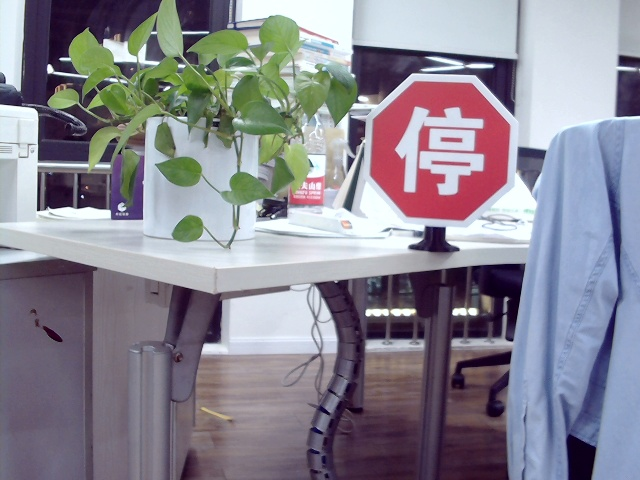stop: (396, 99, 485, 194)
